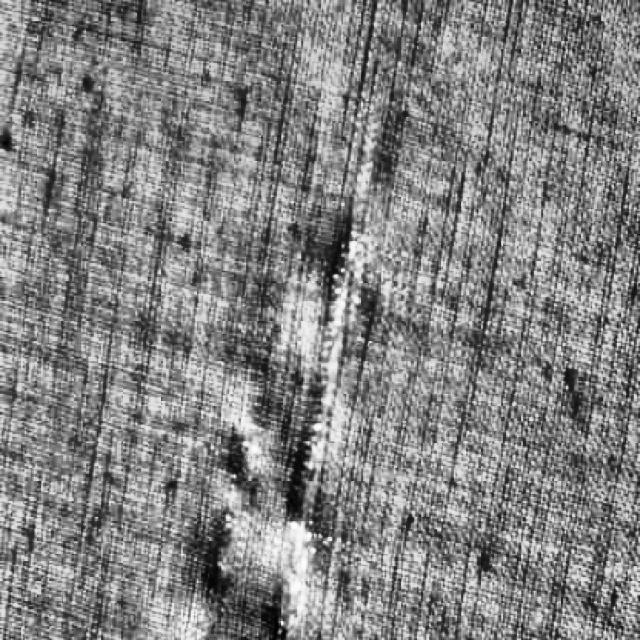thread_error: (274, 78, 416, 640), (193, 392, 273, 606)
